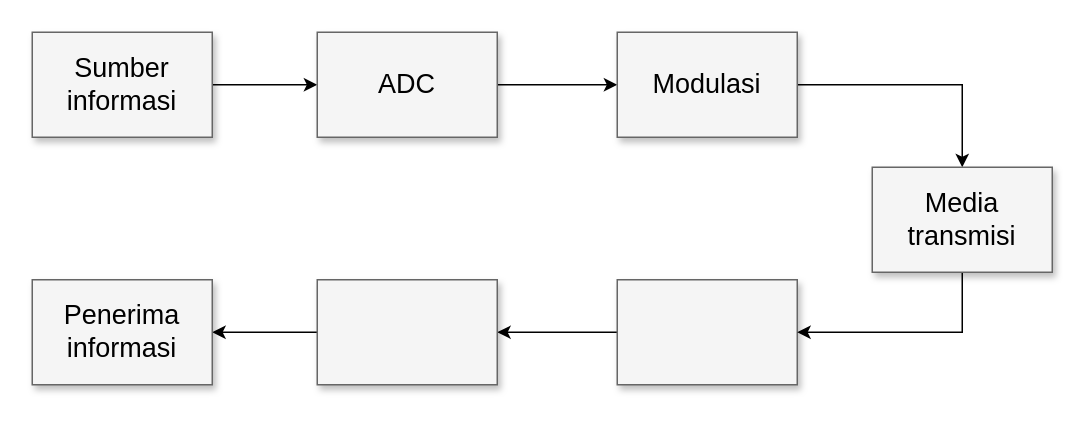
This 1088x422 diagram has some shape labels left out. The centre of each missing label's shape, as x and y in pixels:
"DAC" goes at pixel 408 333.
"Demodulasi" goes at pixel 708 333.
